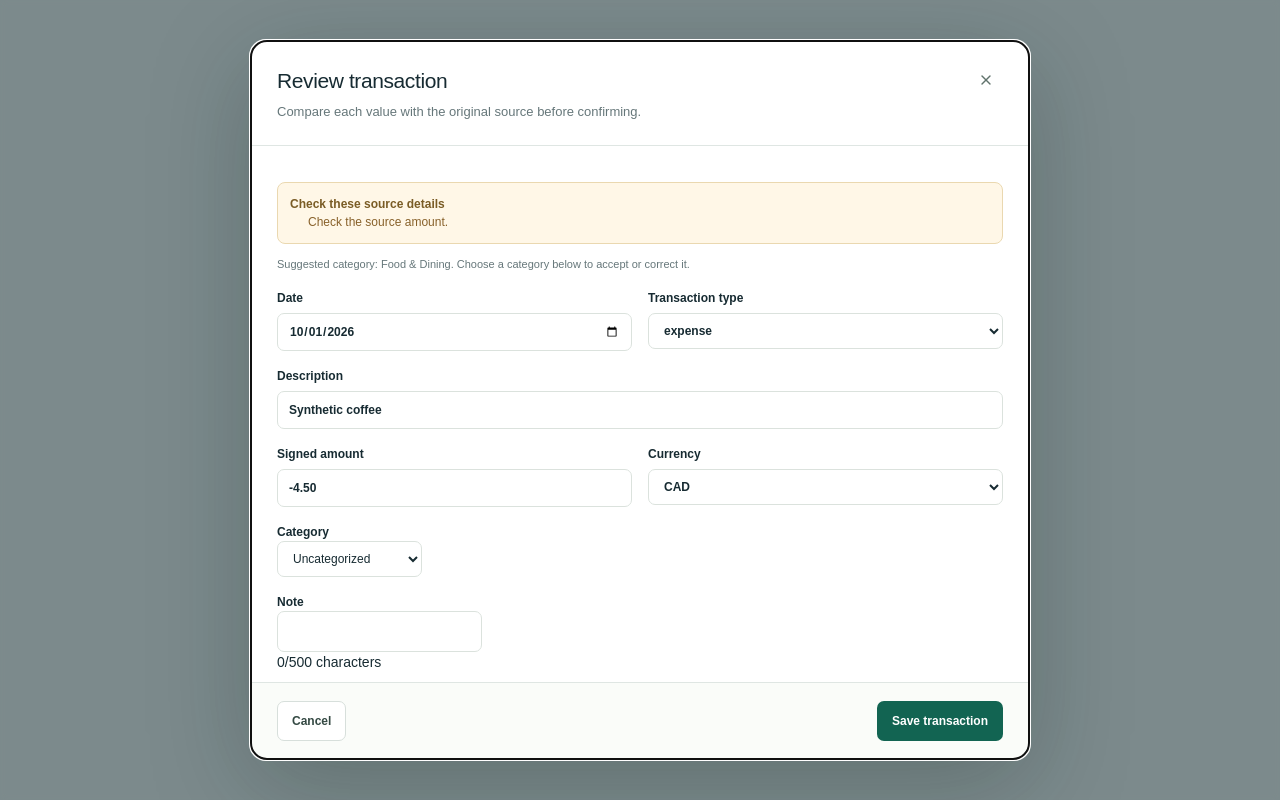
Test case: TransactionEditor › blocks an invalid amount: 1.234
Replace the text in the field labelled "Signed amount" with "1.234" at (454, 488), box [277,468,632,506]
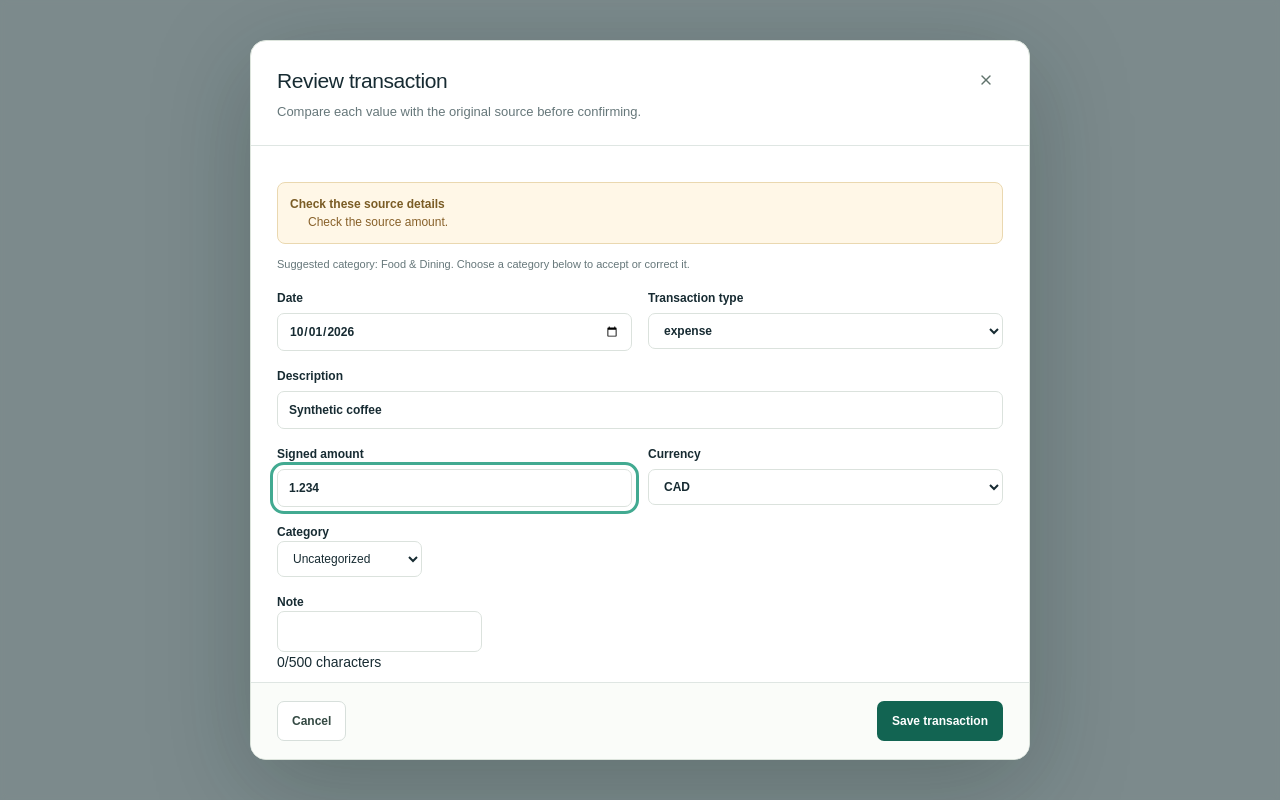
Click the button "Save transaction" at (940, 721), box [877,701,1003,741]
(page scrolled)
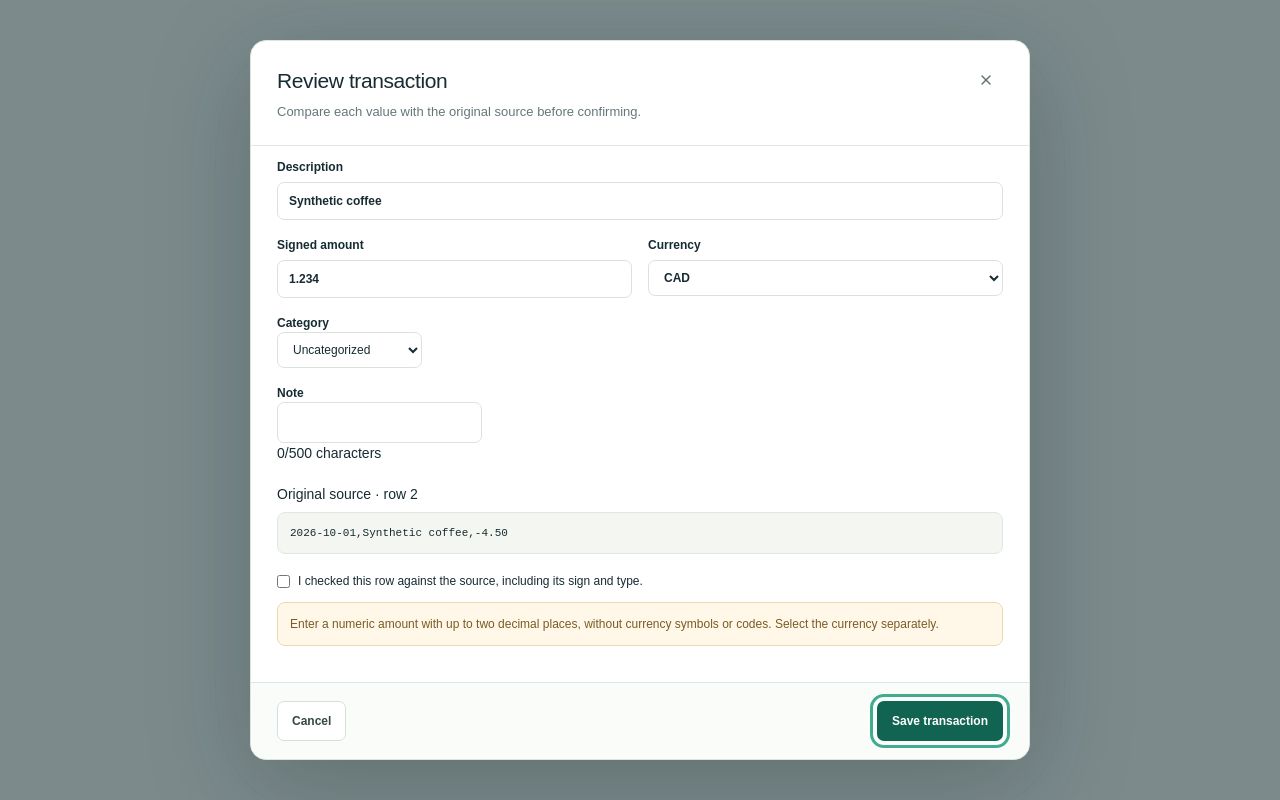
Check: the message shows "up to two decimal places", box [290,617,939,631]
